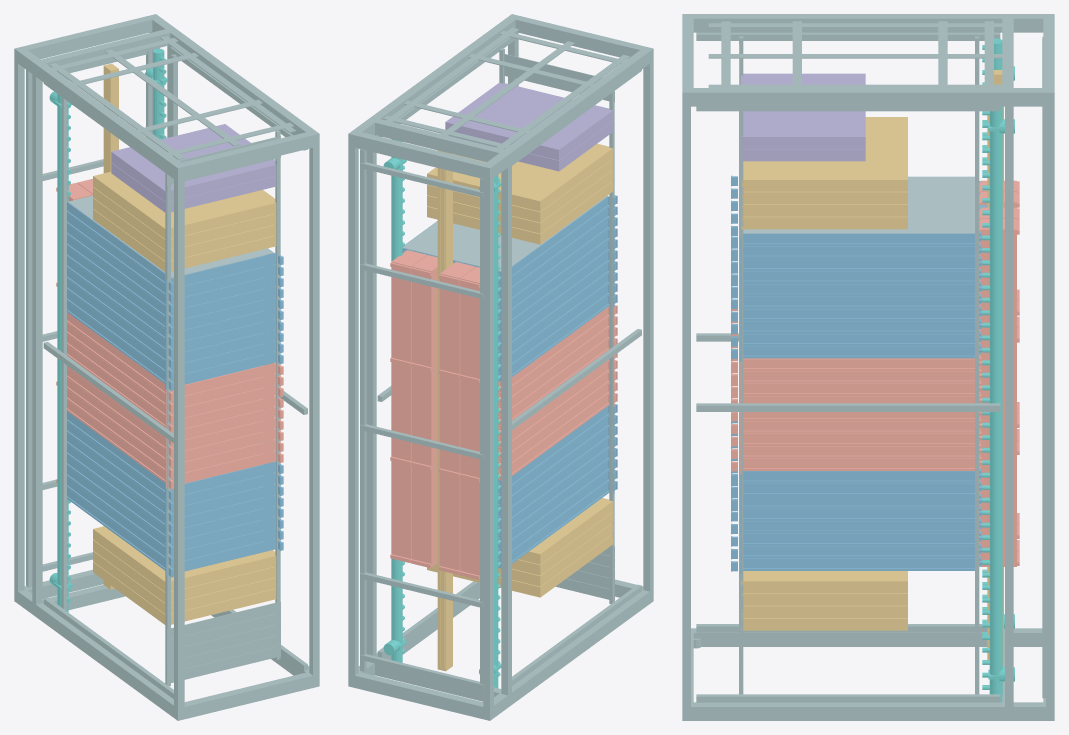
The model's file is gb200-rack-solid.glb.
3 renders of one model, left to right at view 1: azimuth 30°, elevation 25°; view 2: azimuth 150°, elevation 25°; view 3: azimuth 270°, elevation 25°, orthographic. The views are drawn at different scales.
Parts seen in each view (by area): view 1: frame, rear_braces, management_02, power_upper_04, coolant_supply, power_lower_04, compute_18_compute_shell, nvlink_switch_09_switch_shell, nvlink_switch_03_switch_shell, nvlink_switch_07_switch_shell, compute_06_compute_shell, compute_08_compute_shell (+36 smaller); view 2: frame, rear_braces, nvlink_cartridge_03, nvlink_cartridge_02, nvlink_cartridge_04, nvlink_cartridge_01, management_02, power_upper_04, dc_busbar, coolant_supply, coolant_return, compute_18_compute_lid (+37 smaller); view 3: frame, coolant_return, power_upper_04, management_02, nvlink_cartridge_04, compute_18_compute_lid, power_lower_04, compute_18_compute_shell, compute_15_compute_shell, compute_17_compute_shell, compute_14_compute_shell, compute_16_compute_shell (+32 smaller).
Boxes of the visible parts, bbox=[...] form: frame: bbox=[14, 14, 319, 720]; rear_braces: bbox=[26, 49, 152, 587]; management_02: bbox=[111, 124, 276, 201]; power_upper_04: bbox=[93, 171, 276, 238]; coolant_supply: bbox=[49, 73, 72, 612]; power_lower_04: bbox=[93, 526, 276, 592]; compute_18_compute_shell: bbox=[67, 202, 283, 291]; nvlink_switch_09_switch_shell: bbox=[67, 312, 283, 401]; nvlink_switch_03_switch_shell: bbox=[67, 378, 283, 467]; nvlink_switch_07_switch_shell: bbox=[67, 334, 283, 423]; compute_06_compute_shell: bbox=[67, 433, 283, 522]; compute_08_compute_shell: bbox=[67, 411, 283, 500]; frame: bbox=[348, 14, 653, 720]; rear_braces: bbox=[360, 149, 483, 700]; nvlink_cartridge_03: bbox=[410, 255, 437, 567]; nvlink_cartridge_02: bbox=[439, 262, 475, 574]; nvlink_cartridge_04: bbox=[390, 250, 426, 562]; nvlink_cartridge_01: bbox=[459, 267, 479, 579]; management_02: bbox=[445, 82, 613, 160]; power_upper_04: bbox=[427, 143, 613, 211]; dc_busbar: bbox=[437, 150, 452, 671]; coolant_supply: bbox=[479, 175, 501, 687]; coolant_return: bbox=[383, 139, 406, 662]; compute_18_compute_lid: bbox=[402, 196, 607, 271]; frame: bbox=[682, 14, 1054, 720]; coolant_return: bbox=[982, 106, 1014, 702]; power_upper_04: bbox=[741, 117, 907, 191]; management_02: bbox=[741, 73, 865, 148]; nvlink_cartridge_04: bbox=[979, 219, 1019, 566]; compute_18_compute_lid: bbox=[743, 176, 974, 233]; power_lower_04: bbox=[741, 571, 907, 592]; compute_18_compute_shell: bbox=[731, 175, 986, 248]; compute_15_compute_shell: bbox=[731, 213, 982, 286]; compute_17_compute_shell: bbox=[731, 188, 982, 261]; compute_14_compute_shell: bbox=[731, 225, 982, 298]; compute_16_compute_shell: bbox=[731, 200, 982, 273].
Size of the model in its own units: 0.6 by 2.24 by 1.2.
